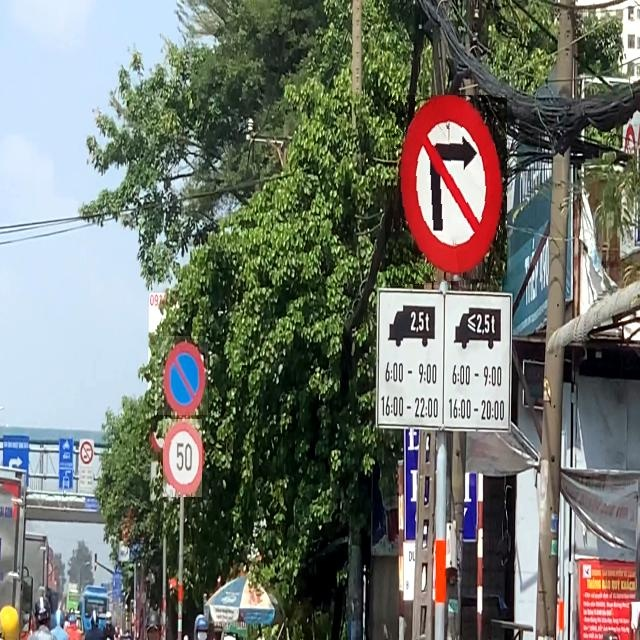bien_cam: (385, 95, 507, 285), (155, 336, 208, 415), (163, 419, 202, 497)
